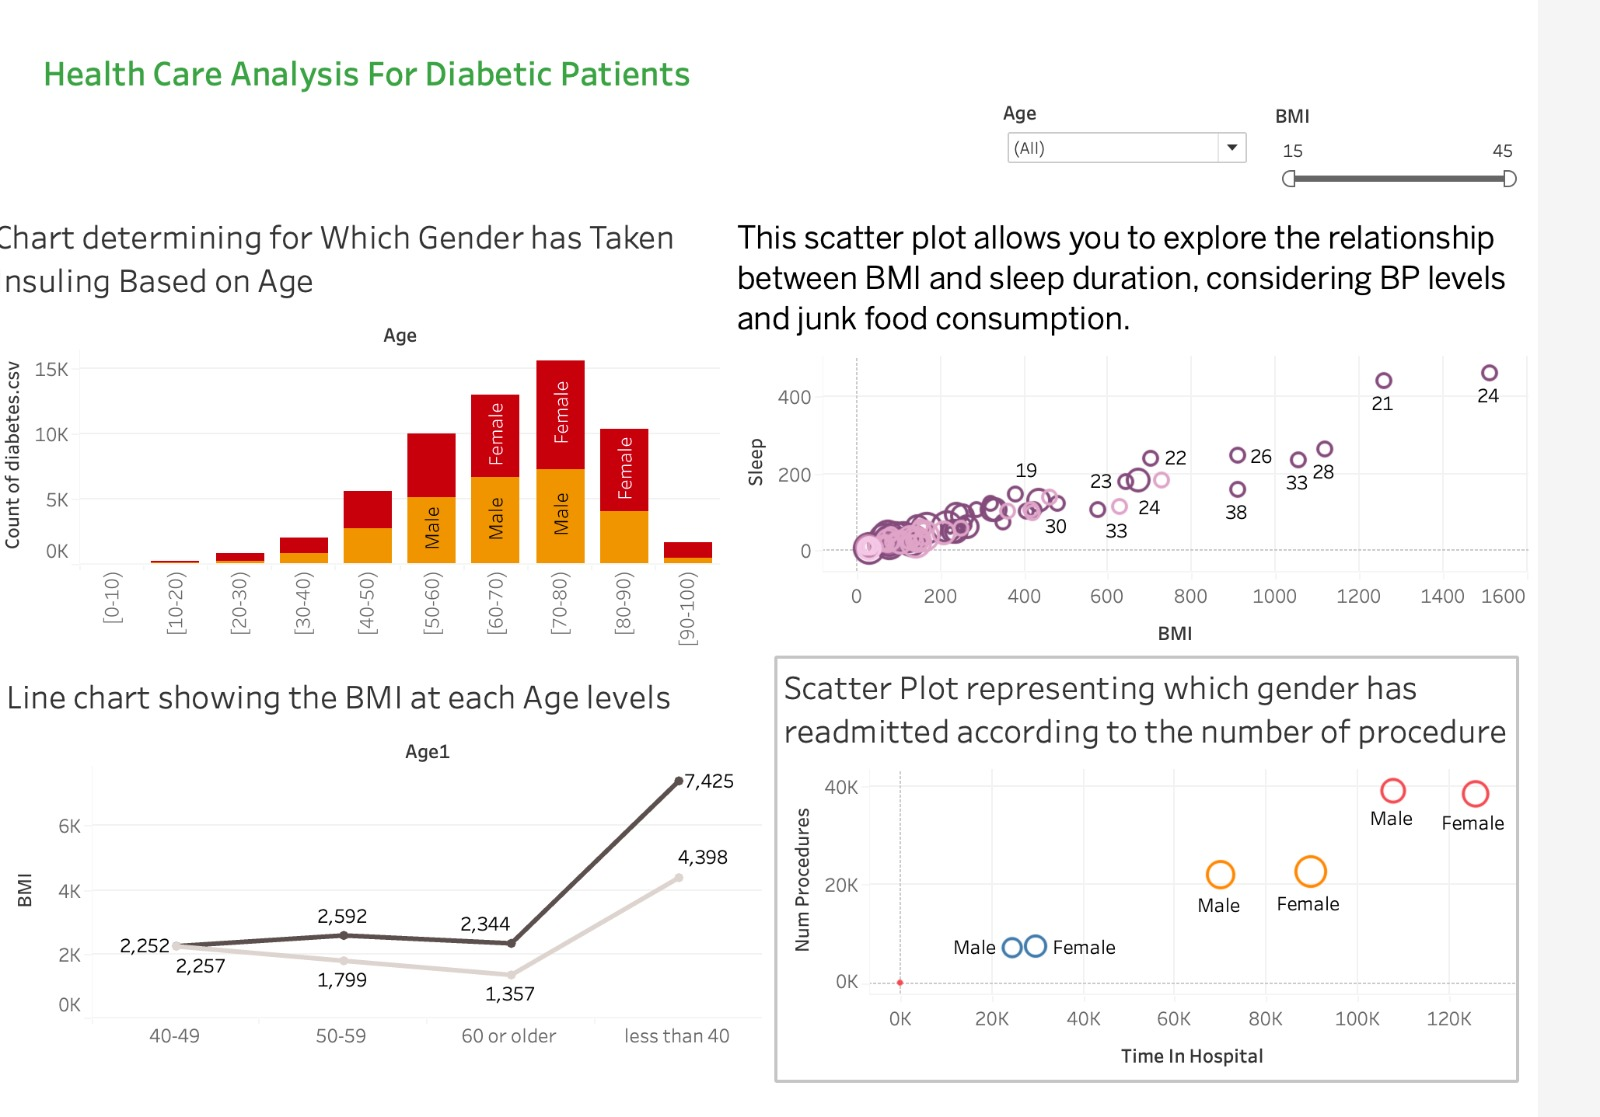

The page's visual inventory and layout, read from the dashboard file:
{"tool":"tableau","page":{"name":"Dashboard 1","canvas":[1000,1000],"ordinal":0},"visuals":[{"type":"text","box":[36,20,509,77]},{"type":"filter","title":"Sheet 1","param":"[federated.18kwyx21mkq0xn144kgd40ch771z].[none:age:nk]","box":[656,76,160,56]},{"type":"filter","title":"Sheet 3","param":"[federated.18kwyx21mkq0xn144kgd40ch771z].[none:BMI:qk]","box":[831,78,160,56]},{"type":"worksheet","title":"Sheet 1","mark":"Automatic","rows":["diabetes.csv_533342269951471BB6F5BAF6340810D6"],"cols":["age"],"box":[3,146,471,289]},{"type":"worksheet","title":"Sheet 3","mark":"Automatic","rows":["Sleep"],"cols":["BMI"],"box":[481,148,513,287]},{"type":"worksheet","title":"Sheet 5","mark":"Automatic","rows":["num_procedures"],"cols":["time_in_hospital"],"box":[511,436,475,271]},{"type":"worksheet","title":"Sheet 4","mark":"Line","rows":["BMI"],"cols":["Age"],"box":[11,442,490,265]}]}

Visuals, with their boxes on the page's 1000x1000 design canvas (x1, y1, x2, y2). These are canvas units, not pixel positions in the 1600x1117 screenshot, which may show the page scaled, cropped or inside an application window:
text: 36, 20, 545, 97
"Sheet 1" filter: 656, 76, 816, 132
"Sheet 3" filter: 831, 78, 991, 134
"Sheet 1" worksheet: 3, 146, 474, 435
"Sheet 3" worksheet: 481, 148, 994, 435
"Sheet 5" worksheet: 511, 436, 986, 707
"Sheet 4" worksheet (Line marks): 11, 442, 501, 707
